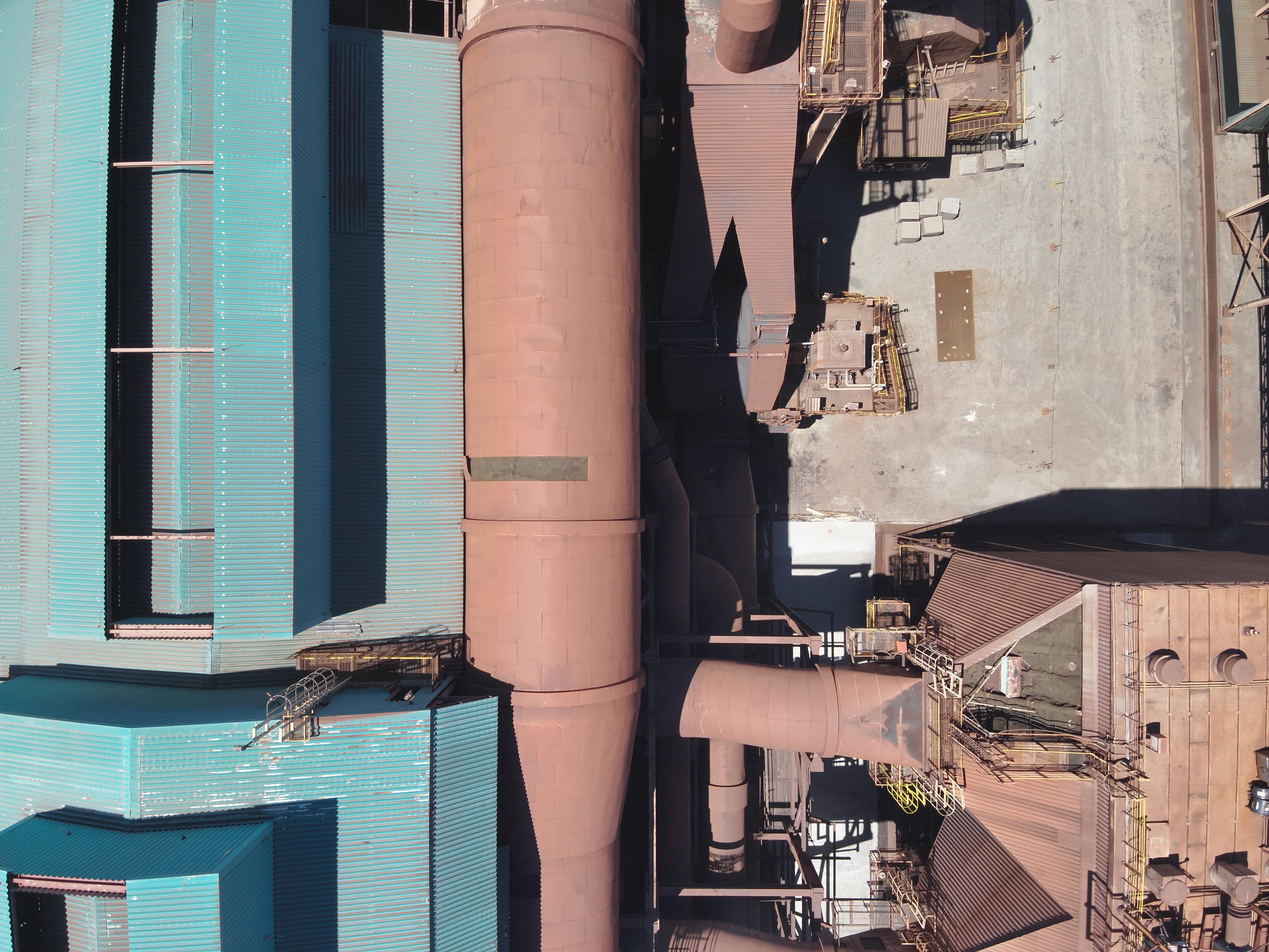Failures: (917, 599, 1090, 734), (460, 453, 596, 485)
